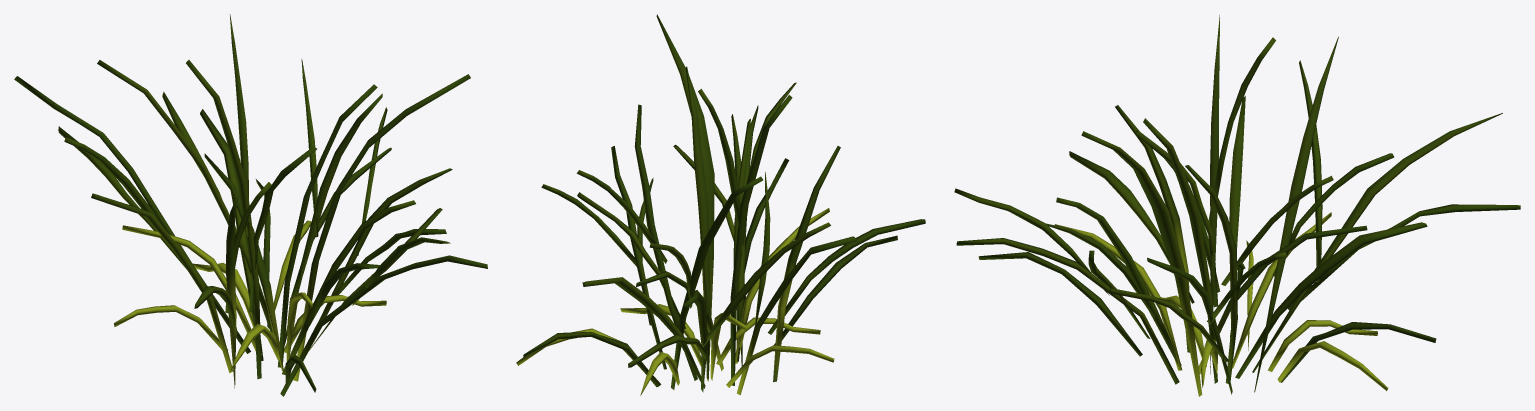
The model's file is lowpoly_3.dae.
The picture shows the model from 3 angles, left to right: view 1: azimuth 30°, elevation 25°; view 2: azimuth 150°, elevation 25°; view 3: azimuth 270°, elevation 25°; orthographic projection. The views are drawn at different scales.
Visible parts, largest first — view 1: Grass_Wild_C_spring-summer.001; view 2: Grass_Wild_C_spring-summer.001; view 3: Grass_Wild_C_spring-summer.001.
Boxes of the visible parts, x1=… form: Grass_Wild_C_spring-summer.001: x1=14, y1=14, x2=487, y2=396; Grass_Wild_C_spring-summer.001: x1=516, y1=14, x2=925, y2=395; Grass_Wild_C_spring-summer.001: x1=954, y1=15, x2=1520, y2=396.
Bounding box in the file's own units: 0.3574 × 0.5566 × 0.3745.
